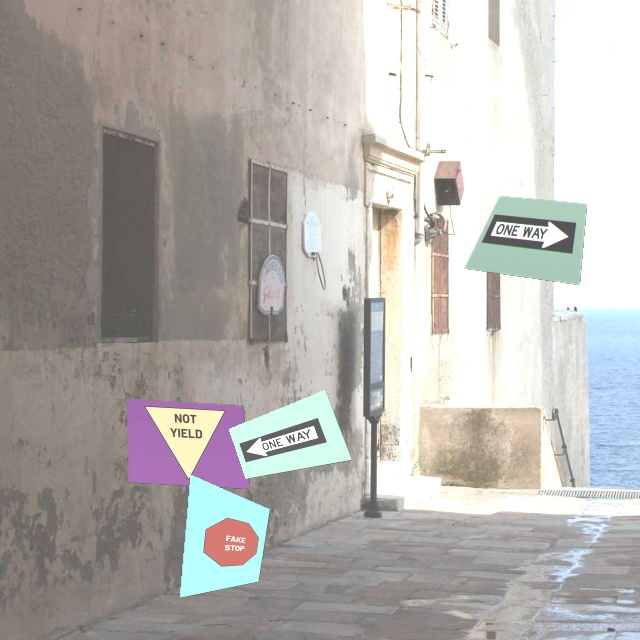FAKE_STOP: (197, 512, 262, 578)
NOT_YIELD: (140, 404, 232, 484)
ONE_WAY_ left: (239, 416, 327, 469)
ONE_WAY_ right: (481, 214, 578, 254)
